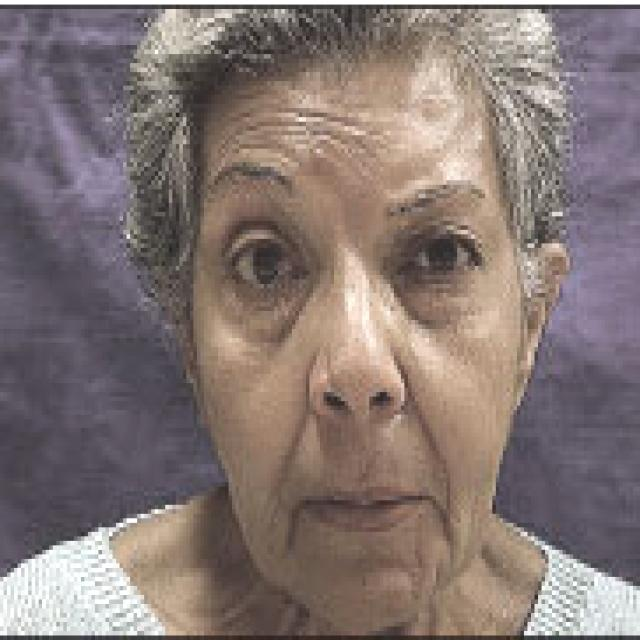normal_face: (188, 65, 510, 628)
